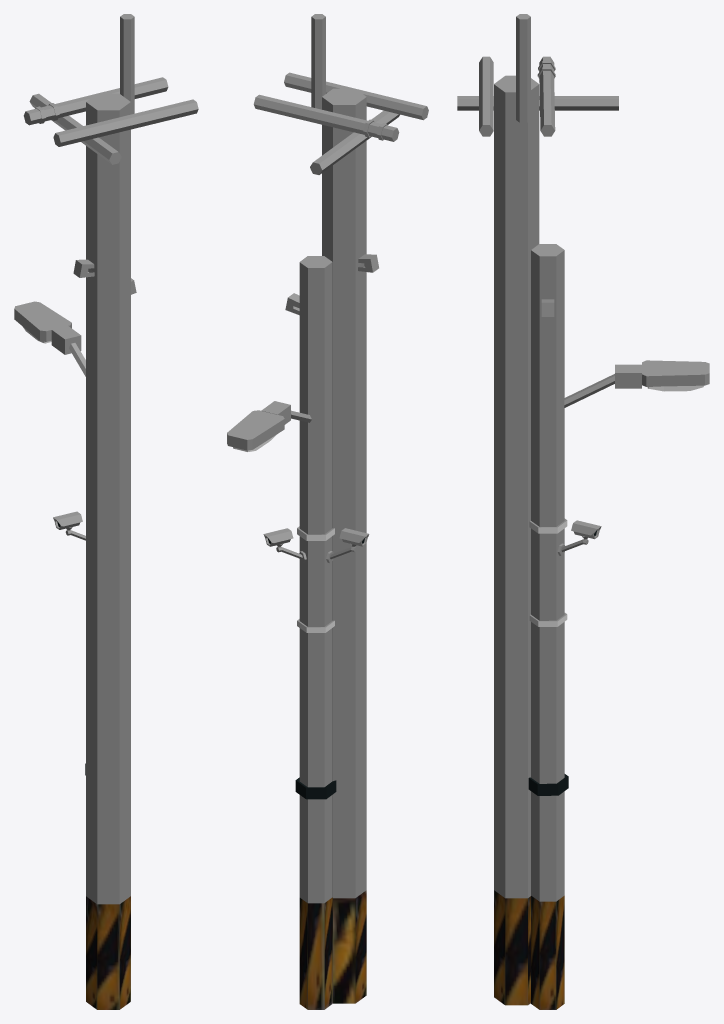
File: 電線桿.fbx
The picture shows the model from 3 angles, left to right: view 1: azimuth 30°, elevation 25°; view 2: azimuth 150°, elevation 25°; view 3: azimuth 270°, elevation 25°; orthographic projection.
Visible parts, largest first — view 1: 5_電線桿; view 2: 5_電線桿; view 3: 5_電線桿.
Part boxes in pixels (box(x1,y1,x2,y2)): 5_電線桿: box(14, 14, 198, 1009); 5_電線桿: box(227, 14, 428, 1009); 5_電線桿: box(457, 14, 709, 1009).
Size of the model in its own units: 68.04 by 461 by 106.
Materials: 4 (1 with a texture image).
